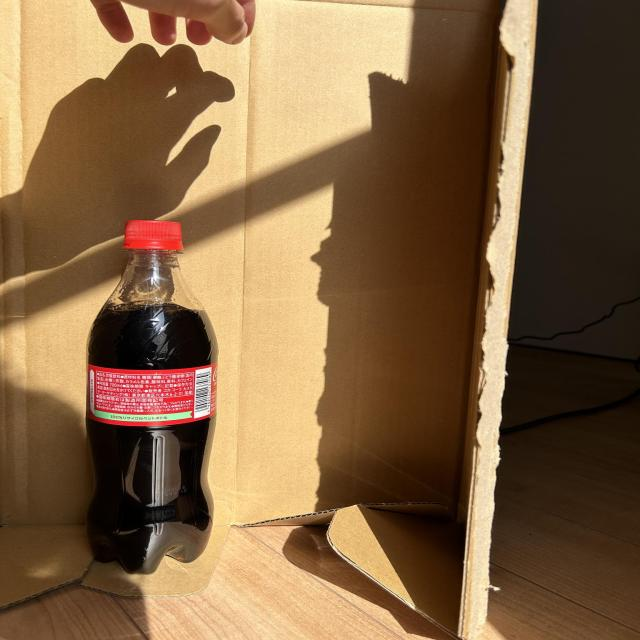high: (85, 220, 218, 574)
